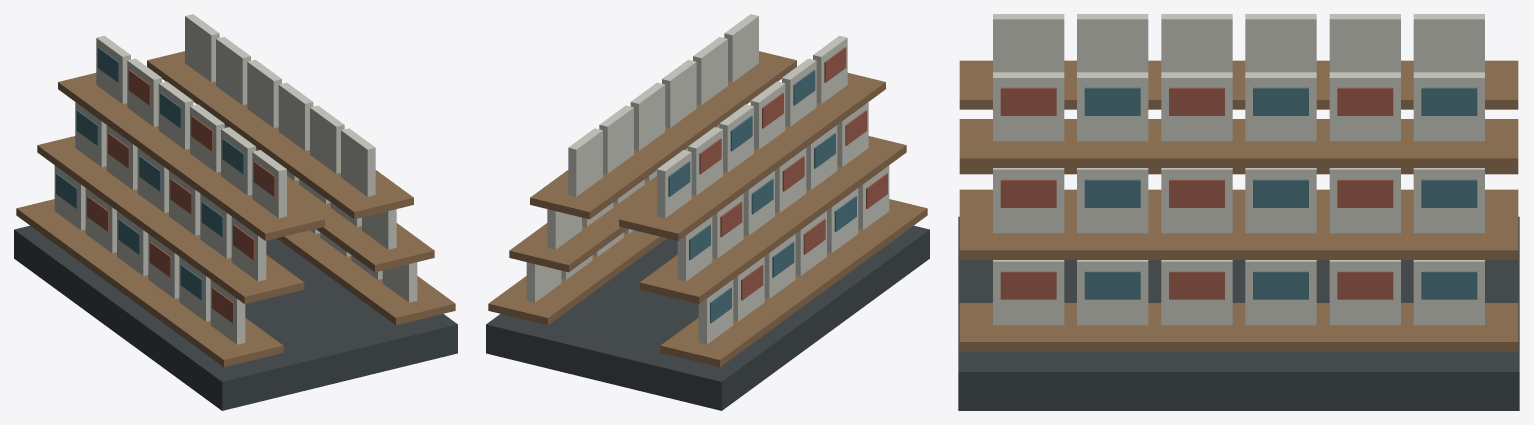
Rendered from news.glb.
3 renders of one model, left to right at view 1: azimuth 30°, elevation 25°; view 2: azimuth 150°, elevation 25°; view 3: azimuth 270°, elevation 25°, orthographic. The views are drawn at different scales.
Parts seen in each view (by area): view 1: news_fixture_Oiled warm oak, news_detail_paper, news_fixture_Powder-coated graphite, news_micro_Pack blue, news_micro_redpack; view 2: news_fixture_Oiled warm oak, news_detail_paper, news_fixture_Powder-coated graphite, news_micro_redpack, news_micro_Pack blue; view 3: news_detail_paper, news_fixture_Oiled warm oak, news_fixture_Powder-coated graphite, news_micro_Pack blue, news_micro_redpack.
Part boxes in pixels (bbox=[...]): news_fixture_Oiled warm oak: bbox=[16, 51, 455, 367]; news_detail_paper: bbox=[54, 14, 417, 344]; news_fixture_Powder-coated graphite: bbox=[14, 225, 457, 410]; news_micro_Pack blue: bbox=[56, 47, 244, 300]; news_micro_redpack: bbox=[87, 70, 275, 323]; news_fixture_Oiled warm oak: bbox=[488, 51, 927, 367]; news_detail_paper: bbox=[526, 14, 889, 344]; news_fixture_Powder-coated graphite: bbox=[486, 225, 929, 410]; news_micro_redpack: bbox=[699, 47, 887, 300]; news_micro_Pack blue: bbox=[668, 70, 856, 323]; news_detail_paper: bbox=[993, 14, 1484, 325]; news_fixture_Oiled warm oak: bbox=[959, 60, 1518, 351]; news_fixture_Powder-coated graphite: bbox=[958, 216, 1519, 410]; news_micro_Pack blue: bbox=[1084, 87, 1477, 299]; news_micro_redpack: bbox=[1000, 87, 1393, 299].
Bounding box in the file's own units: 1.7 × 1.47 × 2.6.
